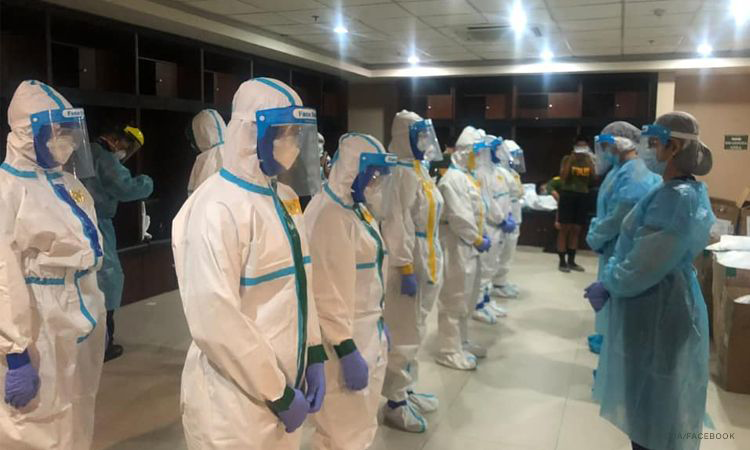Coverall: (164, 72, 330, 450), (1, 78, 111, 449), (304, 128, 388, 446), (384, 106, 439, 393), (435, 122, 492, 353)
Gloves: (1, 344, 42, 412), (266, 378, 310, 439), (334, 334, 373, 394), (301, 359, 327, 418), (583, 284, 612, 314), (399, 265, 422, 300)
with_mask: (268, 125, 298, 172), (44, 131, 75, 166), (361, 184, 384, 207)
